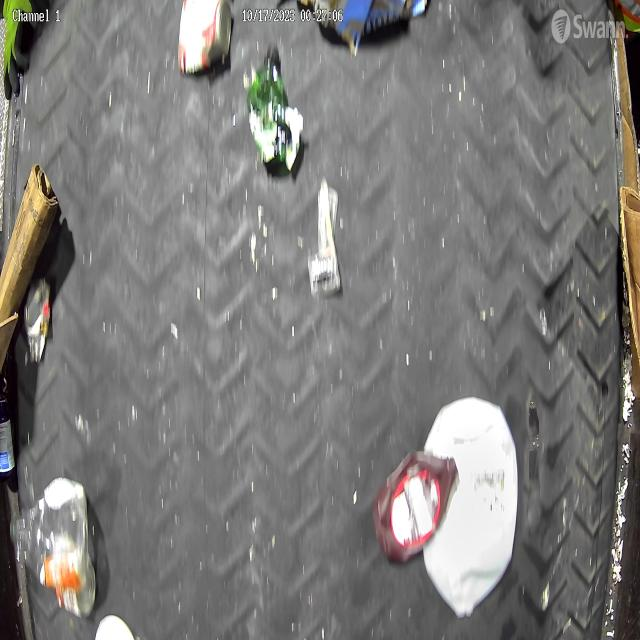can: (179, 0, 233, 77), (25, 277, 51, 362)
milk_jug: (424, 398, 518, 620)
non_white_jug: (373, 448, 456, 563)
